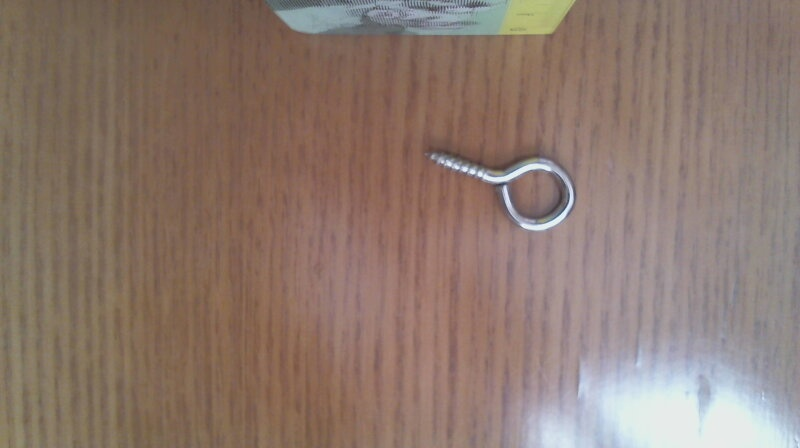O001: (418, 135, 584, 235)
